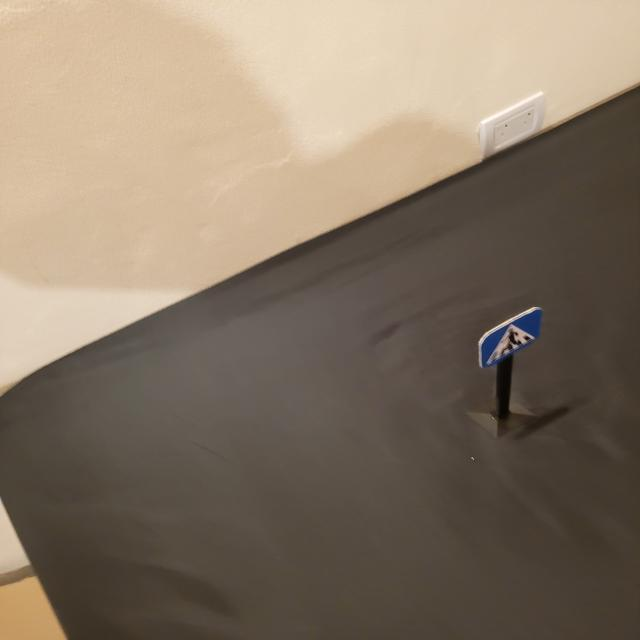crosswalk: (474, 306, 544, 370)
